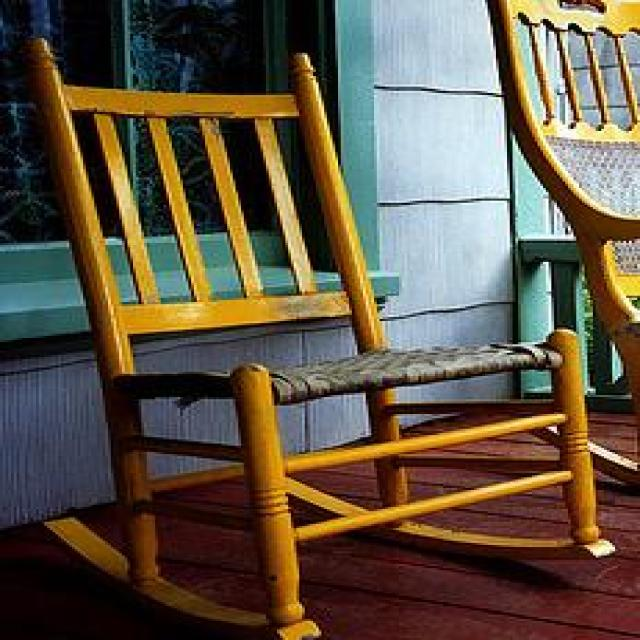chair: (22, 34, 615, 638)
